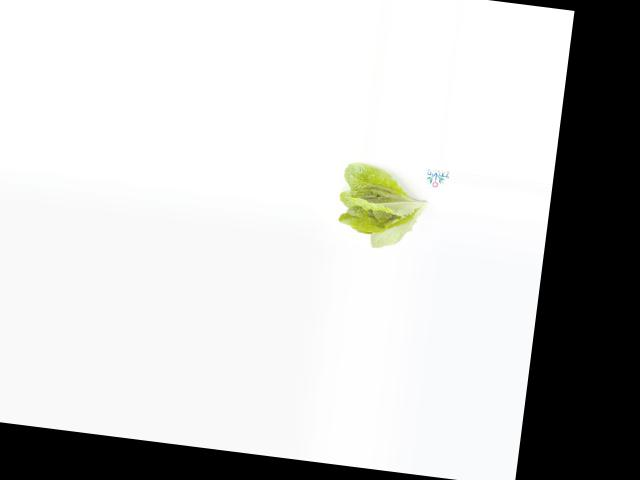lettuce: (330, 162, 431, 255)
